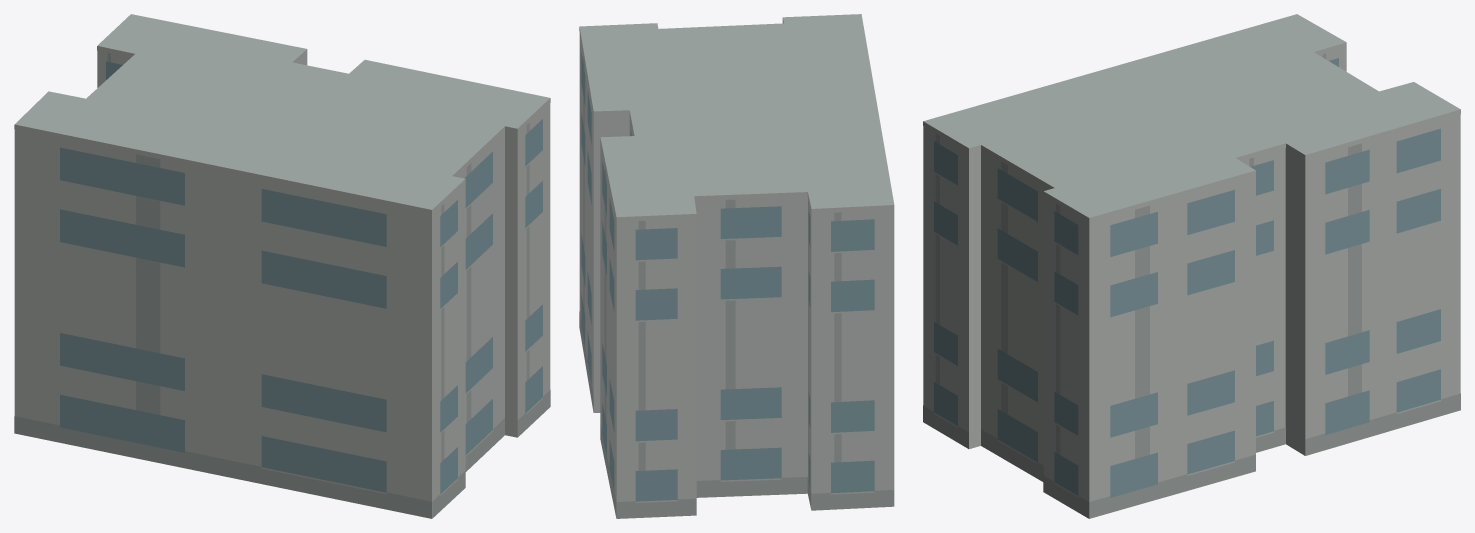
Rendered from survey-upis-32601170.glb.
3 renders of one model, left to right at view 1: azimuth 30°, elevation 25°; view 2: azimuth 150°, elevation 25°; view 3: azimuth 270°, elevation 25°, orthographic. The views are drawn at different scales.
Visible parts, largest first — view 1: survey-upis-32601170.tmp; view 2: survey-upis-32601170.tmp; view 3: survey-upis-32601170.tmp.
Part boxes in pixels (x1,y1,x2,y2): survey-upis-32601170.tmp: (14, 14, 550, 518); survey-upis-32601170.tmp: (579, 14, 894, 518); survey-upis-32601170.tmp: (923, 14, 1460, 518).
Bounding box in the file's own units: 22.1 × 15.2 × 24.62.
